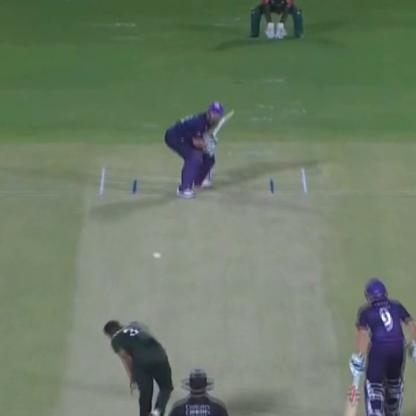bat: (214, 97, 237, 142), (144, 247, 162, 262)
pitch: (64, 164, 354, 416)
